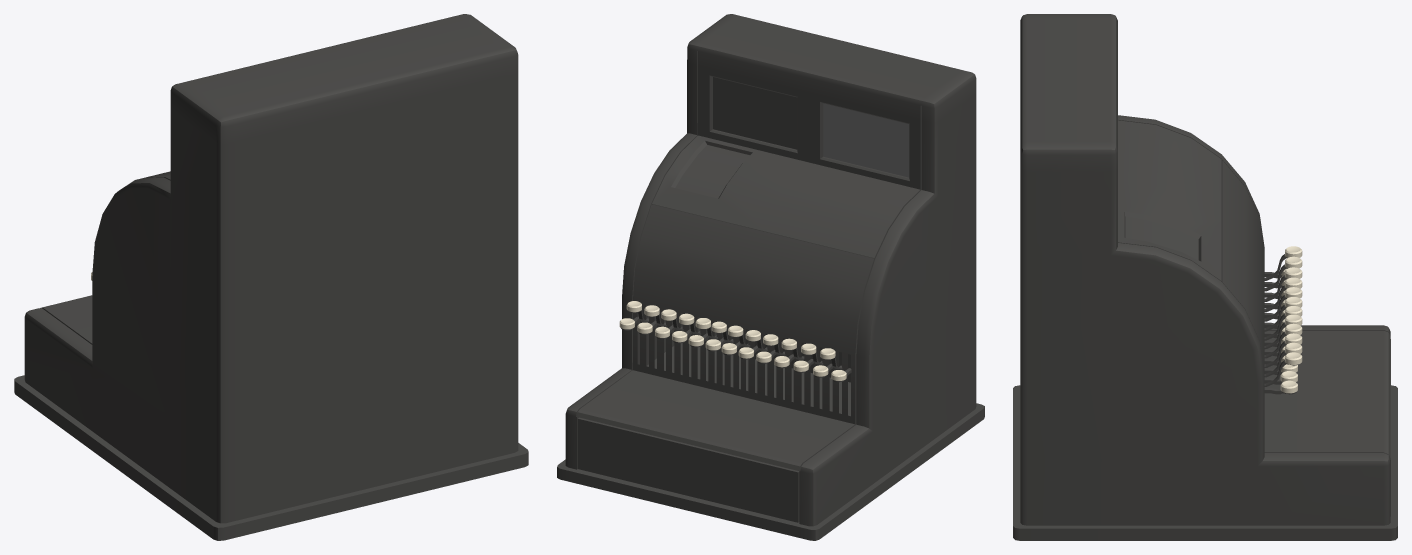
Rendered from CS_Cash Register02_HB.fbx.
3 renders of one model, left to right at view 1: azimuth 30°, elevation 25°; view 2: azimuth 150°, elevation 25°; view 3: azimuth 270°, elevation 25°, orthographic. The views are drawn at different scales.
Visible parts, largest first — view 1: pCube1; view 2: pCube1, pCube2, pCylinder39, pCylinder57; view 3: pCube1, pCylinder39, pCylinder57.
Part boxes in pixels (x1,y1,x2,y2): pCube1: (14,14,528,540); pCube1: (557,14,984,540); pCube2: (577,417,799,522); pCylinder39: (619,301,846,380); pCylinder57: (621,310,851,382); pCube1: (1013,14,1397,540); pCylinder39: (1280,246,1302,393); pCylinder57: (1264,254,1298,394).
Bounding box in the file's own units: 0.3518 × 0.445 × 0.3988.
